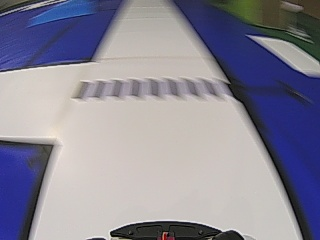CrossWalk: (72, 78, 219, 100)
